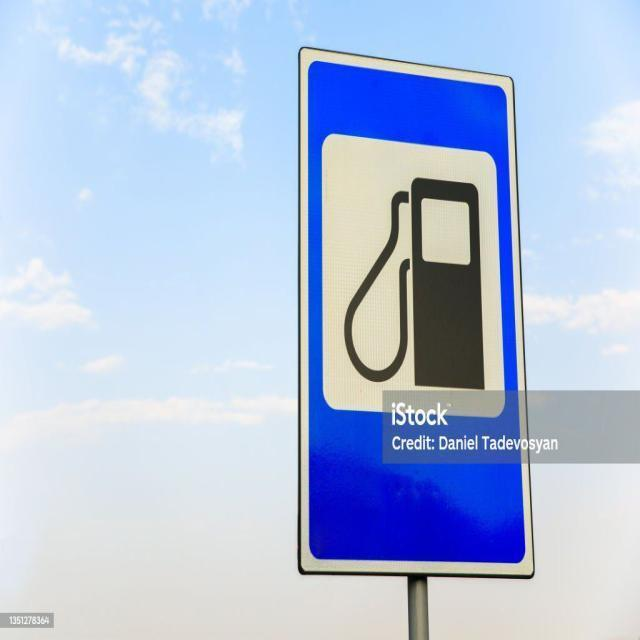petrol pump ahead: (316, 102, 512, 431)
